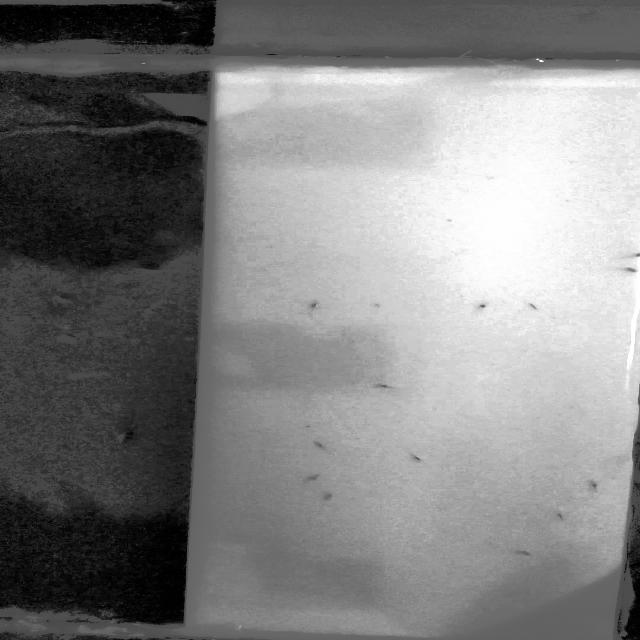shrimp: (304, 485, 348, 507), (298, 436, 335, 454), (539, 506, 576, 523), (300, 293, 324, 315), (368, 379, 402, 393), (300, 473, 335, 486), (463, 300, 498, 312), (516, 545, 544, 560), (582, 481, 609, 495), (523, 298, 544, 313), (404, 451, 429, 462), (620, 262, 640, 274), (623, 247, 640, 261)
